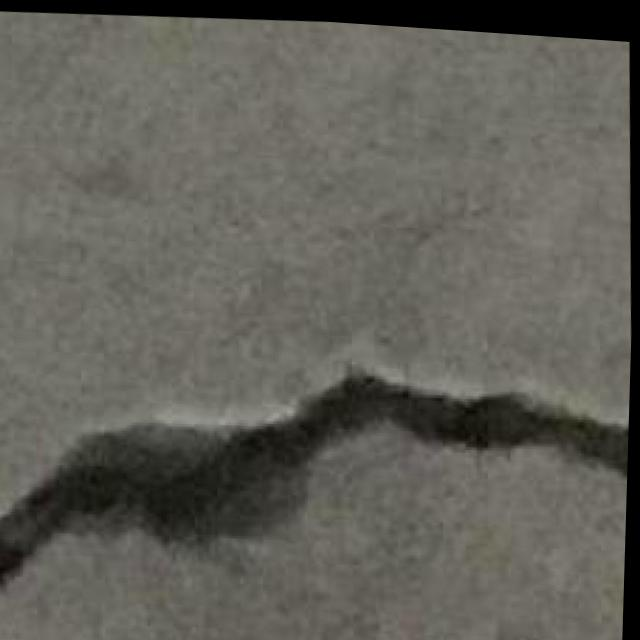Crack: (0, 331, 618, 616)
